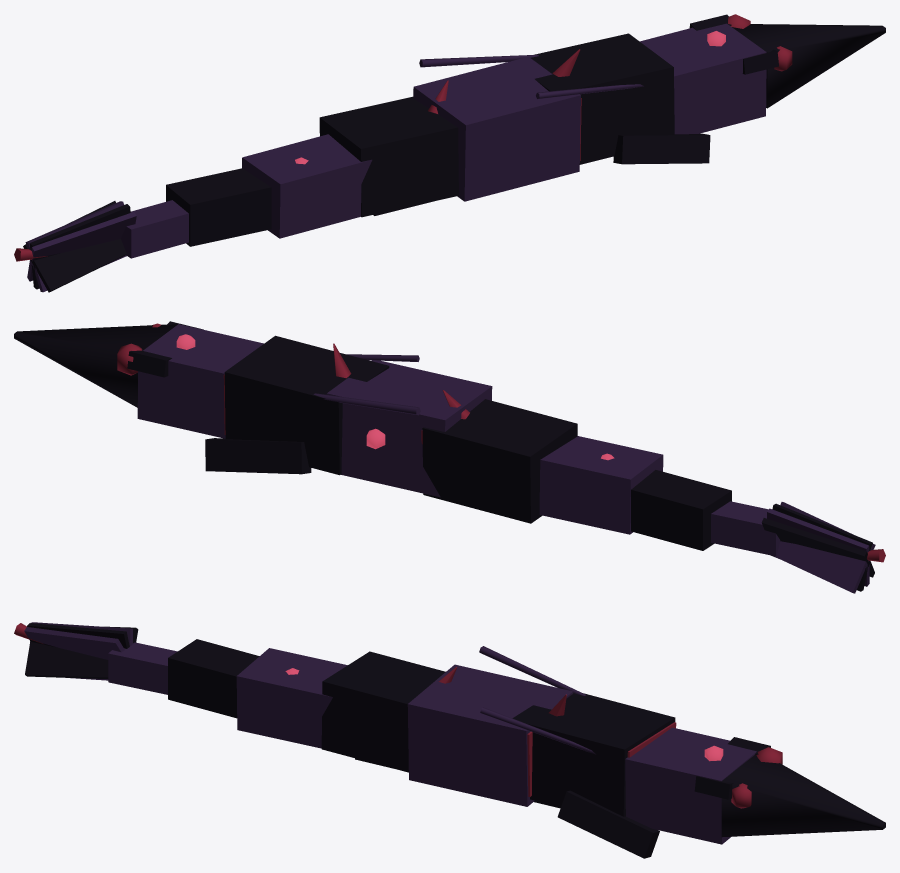
Rendered from light-scout-directorate.glb.
3 renders of one model, top to bottom at view 1: azimuth 30°, elevation 25°; view 2: azimuth 150°, elevation 25°; view 3: azimuth 330°, elevation 25°, orthographic.
Parts seen in each view (by area): view 1: seg_3, seg_4, seg_2, seg_1, seg_5, tail_1, rostrum, limb_s, tail_2, telson_0, telson_3, telson_2 (+4 smaller); view 2: seg_2, seg_4, seg_3, seg_5, seg_1, rostrum, tail_1, limb_p, tail_2, telson_3, telson_0, telson_1 (+3 smaller); view 3: seg_3, seg_2, seg_1, seg_4, rostrum, seg_5, tail_1, limb_s, tail_2, telson_0, telson_3, telson_2 (+3 smaller).
Part boxes in pixels (x1=…): seg_3: x1=413, y1=56, x2=580, y2=201; seg_4: x1=319, y1=96, x2=458, y2=217; seg_2: x1=531, y1=33, x2=674, y2=163; seg_1: x1=640, y1=23, x2=766, y2=134; seg_5: x1=242, y1=134, x2=372, y2=238; tail_1: x1=166, y1=168, x2=271, y2=246; rostrum: x1=732, y1=24, x2=885, y2=108; limb_s: x1=613, y1=133, x2=710, y2=164; tail_2: x1=121, y1=200, x2=188, y2=258; telson_0: x1=23, y1=201, x2=126, y2=292; telson_3: x1=27, y1=212, x2=136, y2=281; telson_2: x1=29, y1=204, x2=130, y2=289; seg_2: x1=224, y1=335, x2=389, y2=475; seg_4: x1=422, y1=399, x2=577, y2=523; seg_3: x1=326, y1=360, x2=492, y2=497; seg_5: x1=539, y1=436, x2=663, y2=534; seg_1: x1=137, y1=324, x2=263, y2=438; rostrum: x1=14, y1=324, x2=177, y2=407; tail_1: x1=631, y1=470, x2=731, y2=550; limb_p: x1=205, y1=438, x2=311, y2=474; tail_2: x1=711, y1=501, x2=780, y2=556; telson_3: x1=773, y1=502, x2=875, y2=593; telson_0: x1=761, y1=518, x2=874, y2=577; telson_1: x1=767, y1=508, x2=869, y2=586; seg_3: x1=407, y1=664, x2=573, y2=806; seg_2: x1=512, y1=693, x2=675, y2=816; seg_1: x1=625, y1=727, x2=756, y2=844; seg_4: x1=321, y1=651, x2=445, y2=772; rostrum: x1=721, y1=754, x2=885, y2=837; seg_5: x1=236, y1=648, x2=347, y2=748; tail_1: x1=168, y1=639, x2=259, y2=718; limb_s: x1=557, y1=790, x2=659, y2=858; tail_2: x1=108, y1=642, x2=177, y2=694; telson_0: x1=25, y1=626, x2=138, y2=678; telson_3: x1=24, y1=627, x2=124, y2=659; telson_2: x1=27, y1=623, x2=129, y2=648.
Bounding box in the file's own units: 59.91 × 8.35 × 7.67.
